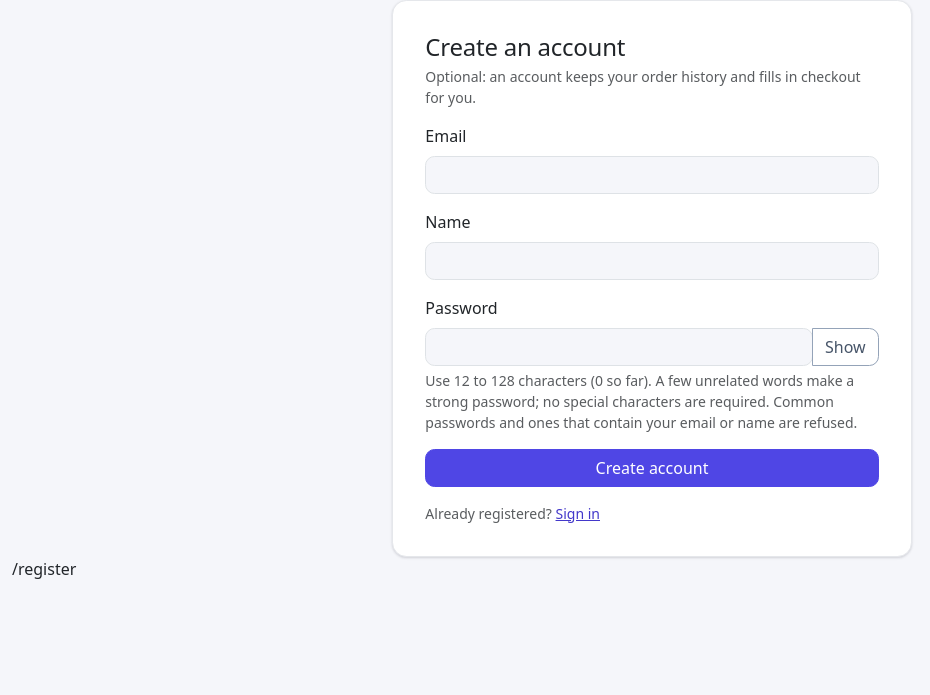
Scenario: RegisterPage › shows the server's reasons next to the fields and moves focus to the first one
The width and height of the screenshot is (930, 695).
Type "ada@example.com" into the field labelled "Email" at (652, 175), box [425,156,879,194]
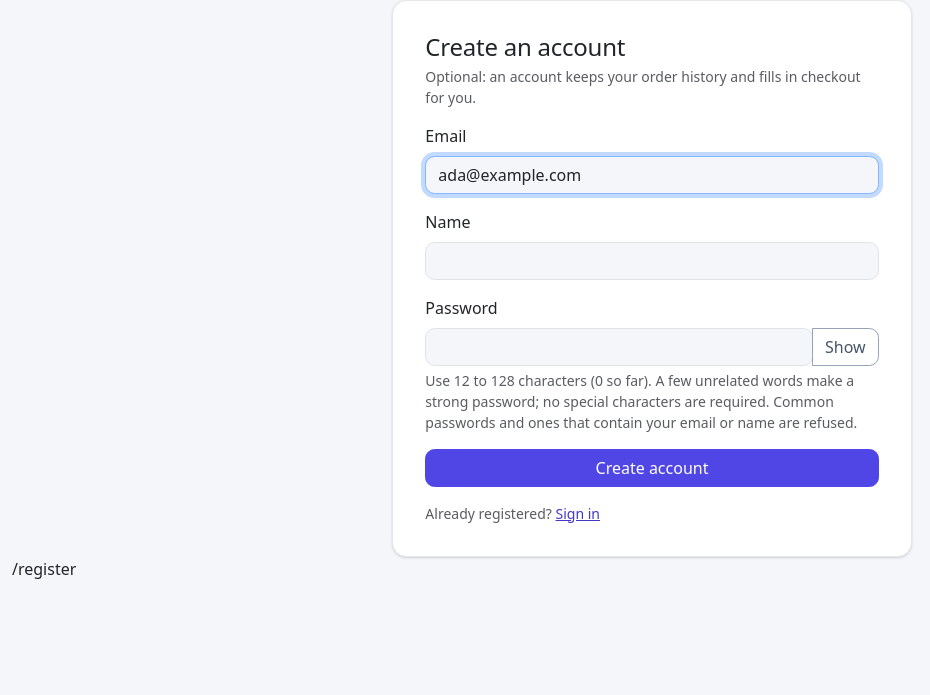
Type "Ada Lovelace" into the field labelled "Name" at (652, 261), box [425,242,879,280]
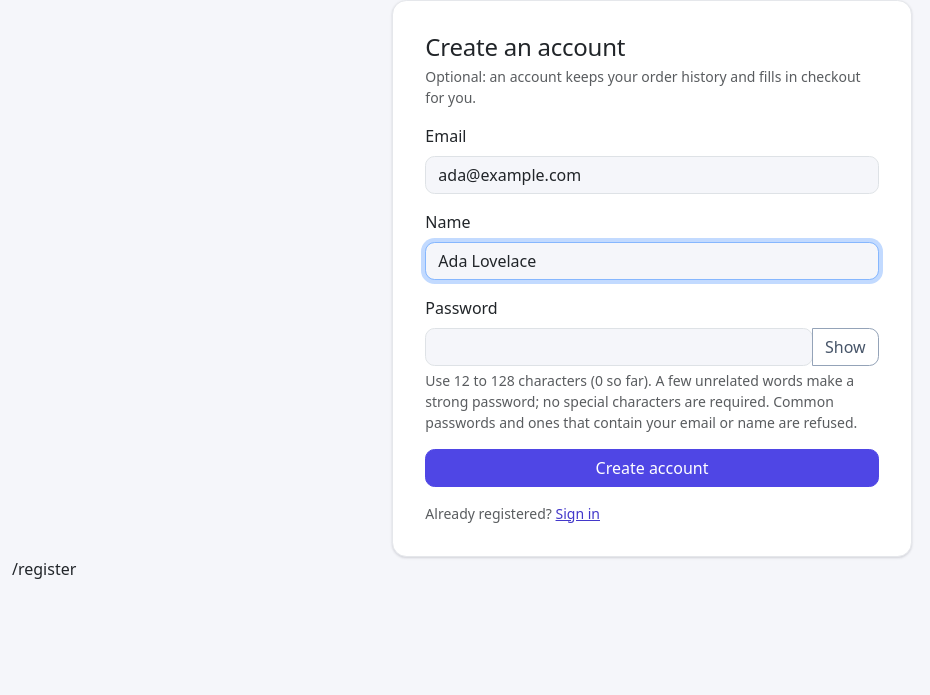
Type "password1234" into the password field labelled "Password" at (619, 347), box [425,328,813,366]
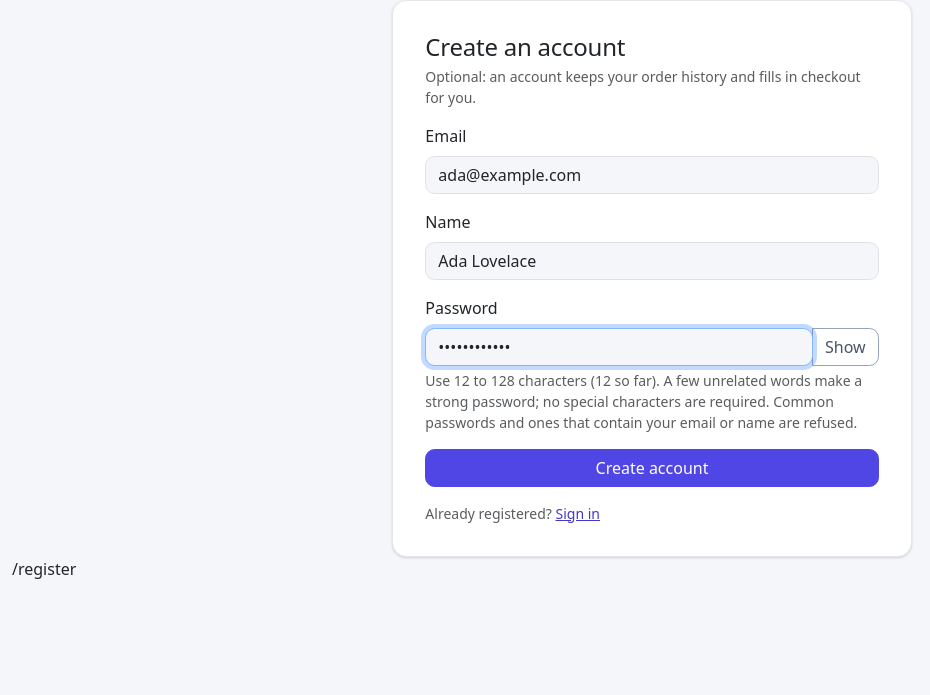
Click the button "Create account" at (652, 468), box [425,449,879,487]
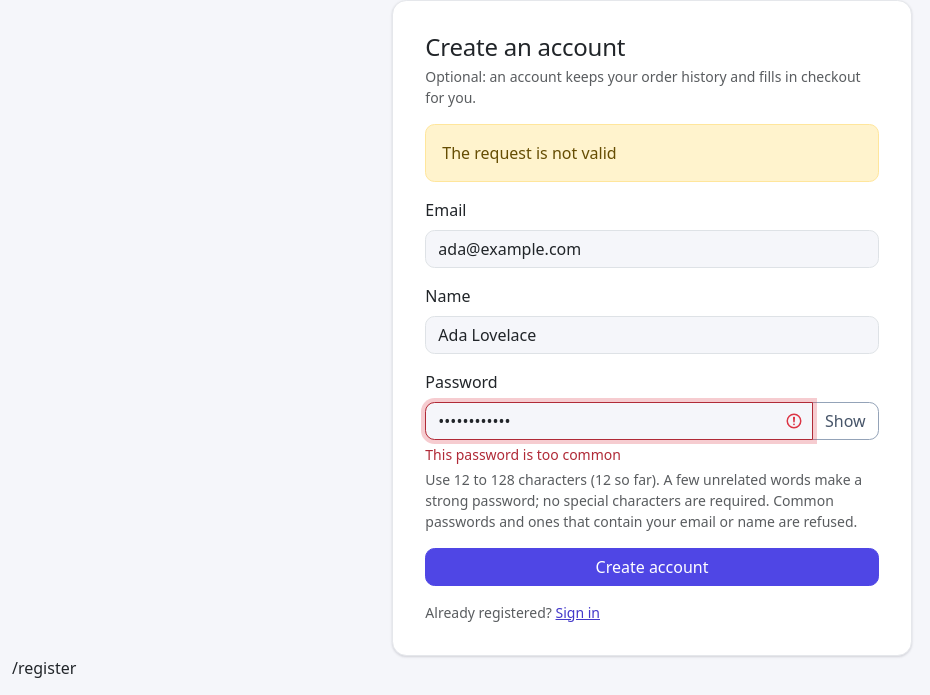
Check: the text "This password is too common" is shown, box [425,445,621,464]
Check: the message reads "The request is not valid", box [442,142,617,164]
